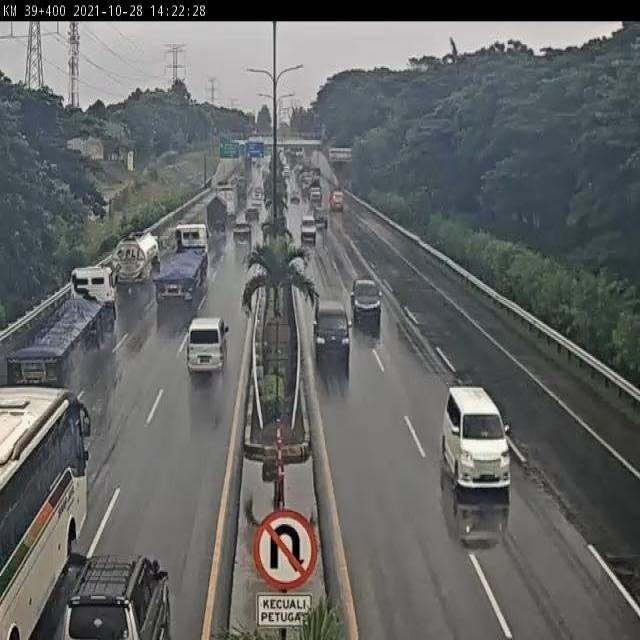Bus: (1, 377, 86, 640)
Car: (69, 551, 174, 640), (350, 280, 382, 330), (233, 222, 252, 244), (300, 218, 316, 242), (243, 206, 260, 222), (251, 187, 264, 200), (309, 189, 321, 203), (288, 191, 300, 203)
Truck: (4, 264, 115, 385), (154, 224, 208, 300), (112, 230, 160, 291), (205, 198, 227, 233), (216, 185, 237, 217)
Van: (442, 379, 514, 499), (187, 318, 230, 380), (313, 298, 352, 366), (331, 190, 342, 212)
